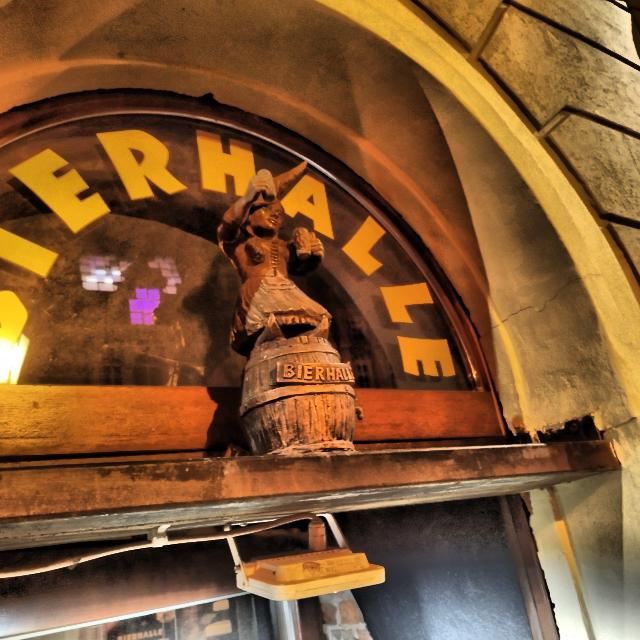Bawarka: (218, 161, 360, 455)
